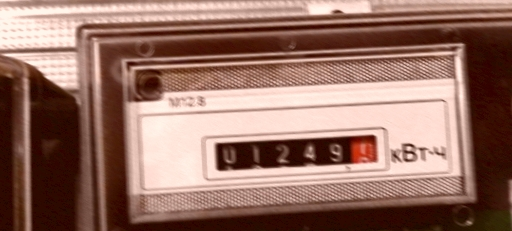0: (222, 144, 237, 165)
1: (249, 143, 262, 164)
2: (274, 142, 291, 165)
4: (302, 141, 317, 161)
7: (356, 135, 370, 156)
9: (329, 141, 343, 163)
screen: (199, 123, 392, 183)
